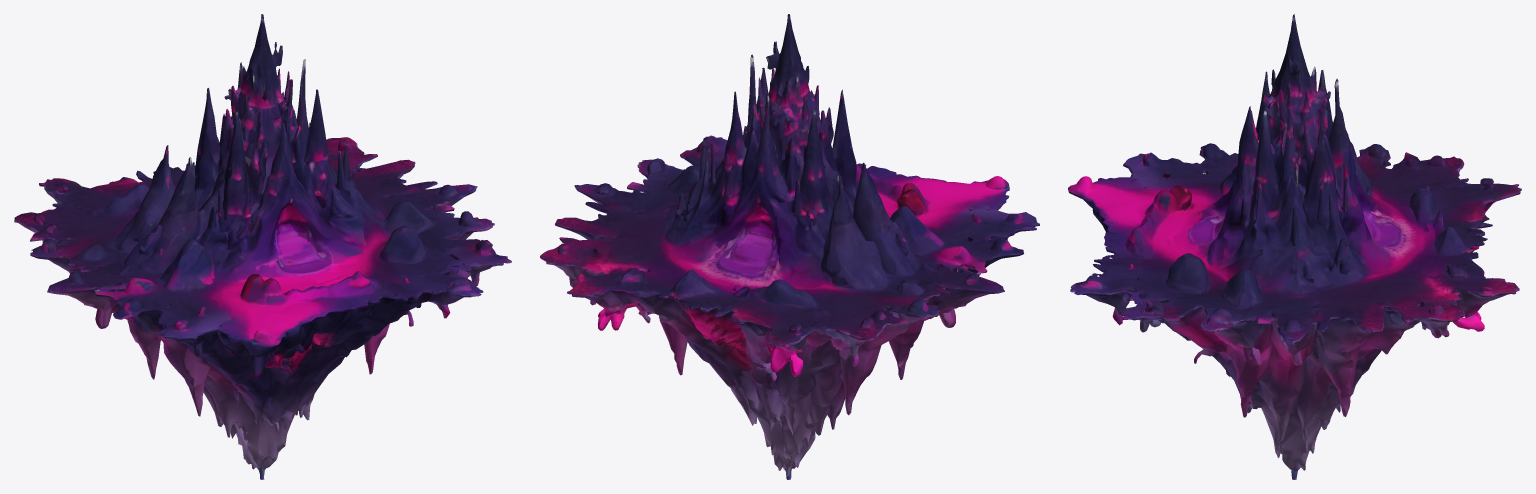
File: broken-root-islet-generated-2026-05-17T21-17-03-200Z.medium.glb
3 renders of one model, left to right at view 1: azimuth 30°, elevation 25°; view 2: azimuth 150°, elevation 25°; view 3: azimuth 270°, elevation 25°, orthographic.
Parts seen in each view (by area): view 1: temp_mesh.ply; view 2: temp_mesh.ply; view 3: temp_mesh.ply.
Boxes of the visible parts, box(x1,y1,x2,y2) form: temp_mesh.ply: box(14, 14, 511, 479); temp_mesh.ply: box(540, 14, 1039, 479); temp_mesh.ply: box(1068, 14, 1521, 479).
Size of the model in its own units: 1.9 by 1.97 by 1.74.
Materials: 1 (1 with a texture image).
